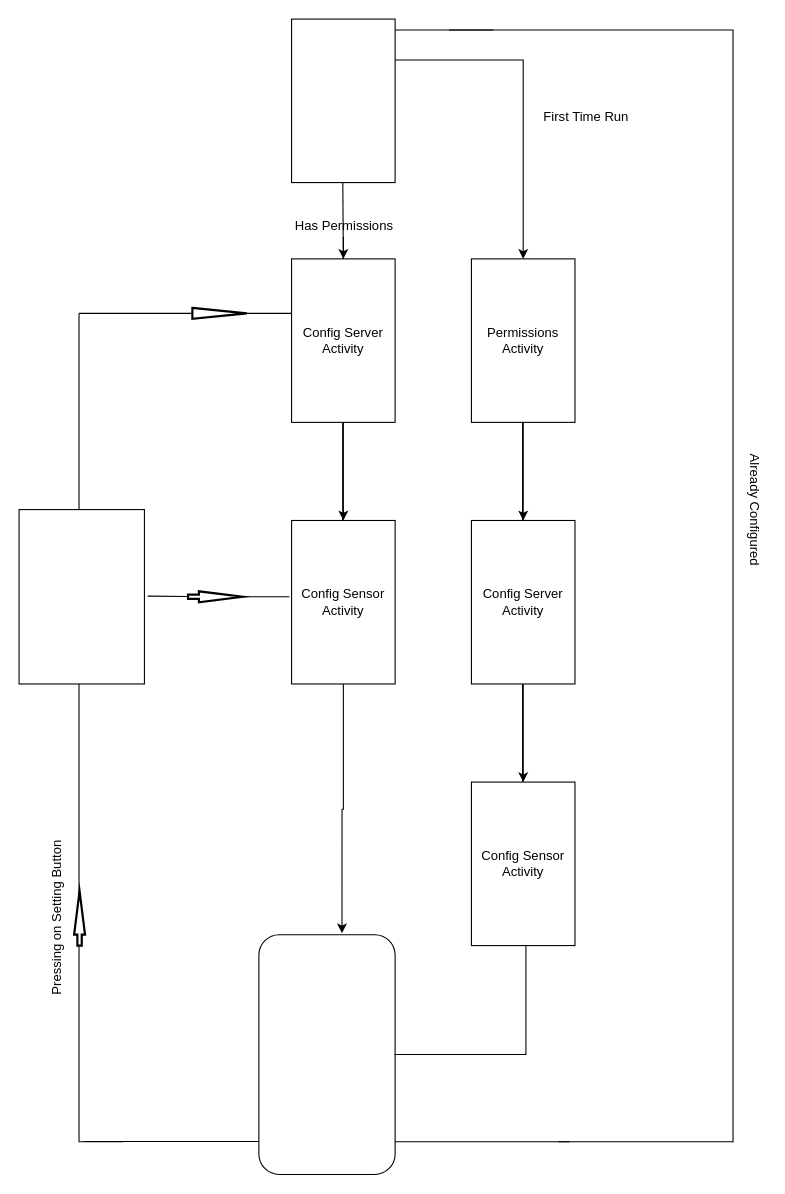
This 785x1194 diagram has some shape labels left out. The shapes that lost their labels are listed below. From the top down, each one's box as (x1, y1, x2, y2) in pixels, then its label:
(290, 18, 395, 183): Splash Screen
(18, 508, 144, 684): Choose Sensor or Server Config Activity
(258, 934, 395, 1174): MAIN ACTIVITY
